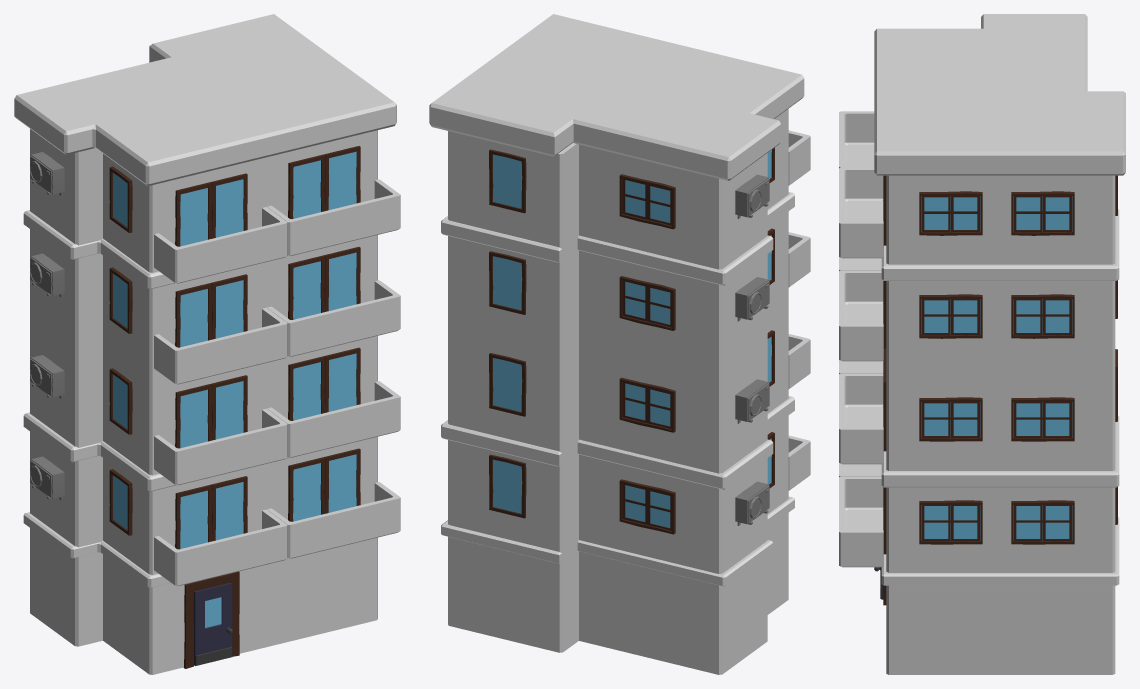
Rendered from SM_apartment_02.fbx.
The picture shows the model from 3 angles, left to right: view 1: azimuth 30°, elevation 25°; view 2: azimuth 150°, elevation 25°; view 3: azimuth 270°, elevation 25°; orthographic projection. The views are drawn at different scales.
Parts seen in each view (by area): view 1: Box030; view 2: Box030; view 3: Box030.
Boxes of the visible parts, box(x1,y1,x2,y2) form: Box030: box(14, 14, 400, 674); Box030: box(429, 14, 810, 674); Box030: box(839, 14, 1125, 674).
Bounding box in the file's own units: 348 × 609 × 299.
